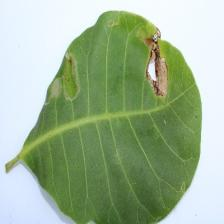leaf miner: (142, 33, 171, 102)
